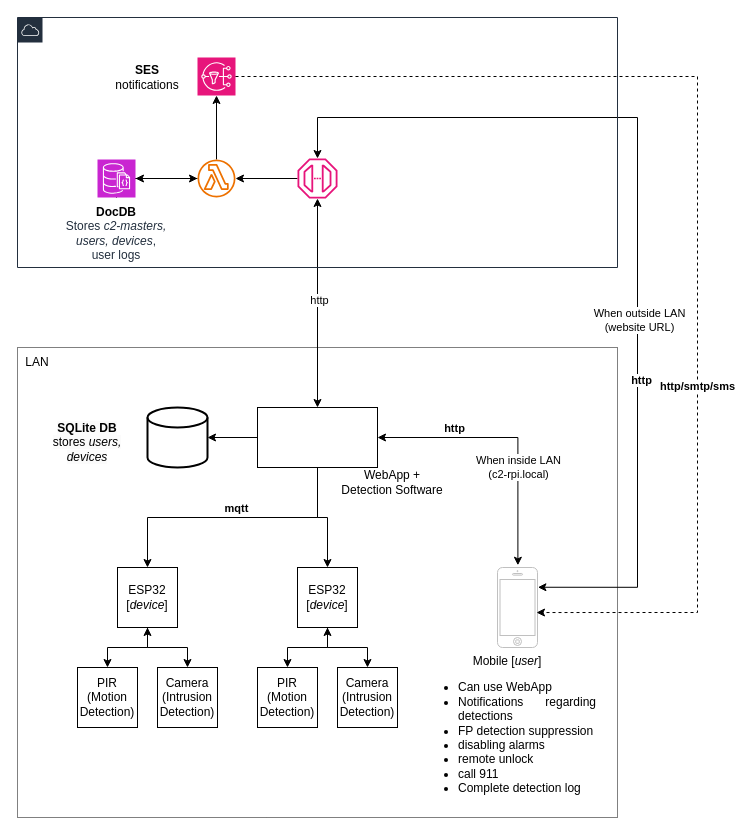
This 752x835 diagram has some shape labels left out. The shapes that lost their labels are listed below. From the top down, each one's box as (x1, y1, x2, y2) in pixels, then its label:
(16, 16, 618, 268): AWS Cloud (MFA, Notifications)
(197, 159, 235, 197): WebApp (Email, MFA)
(256, 406, 378, 468): RPi [ c2-master ] (Central Command & Control)
